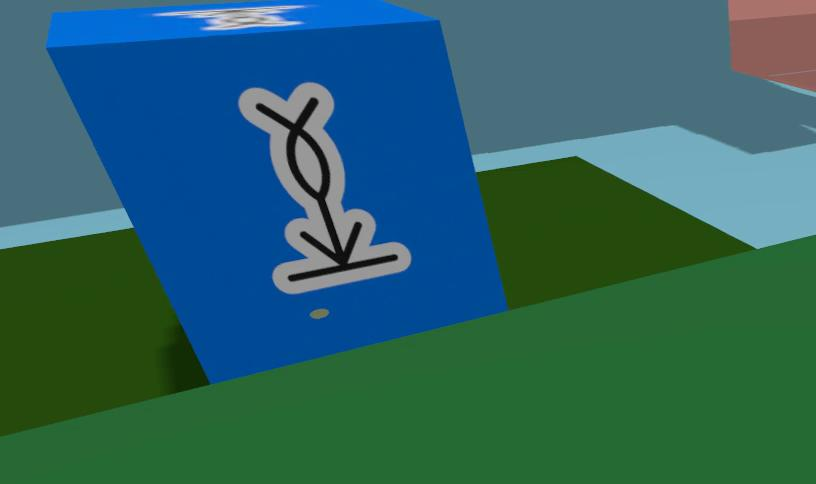KFS_REAL: (46, 0, 507, 382), (240, 82, 410, 294), (153, 6, 303, 29)
